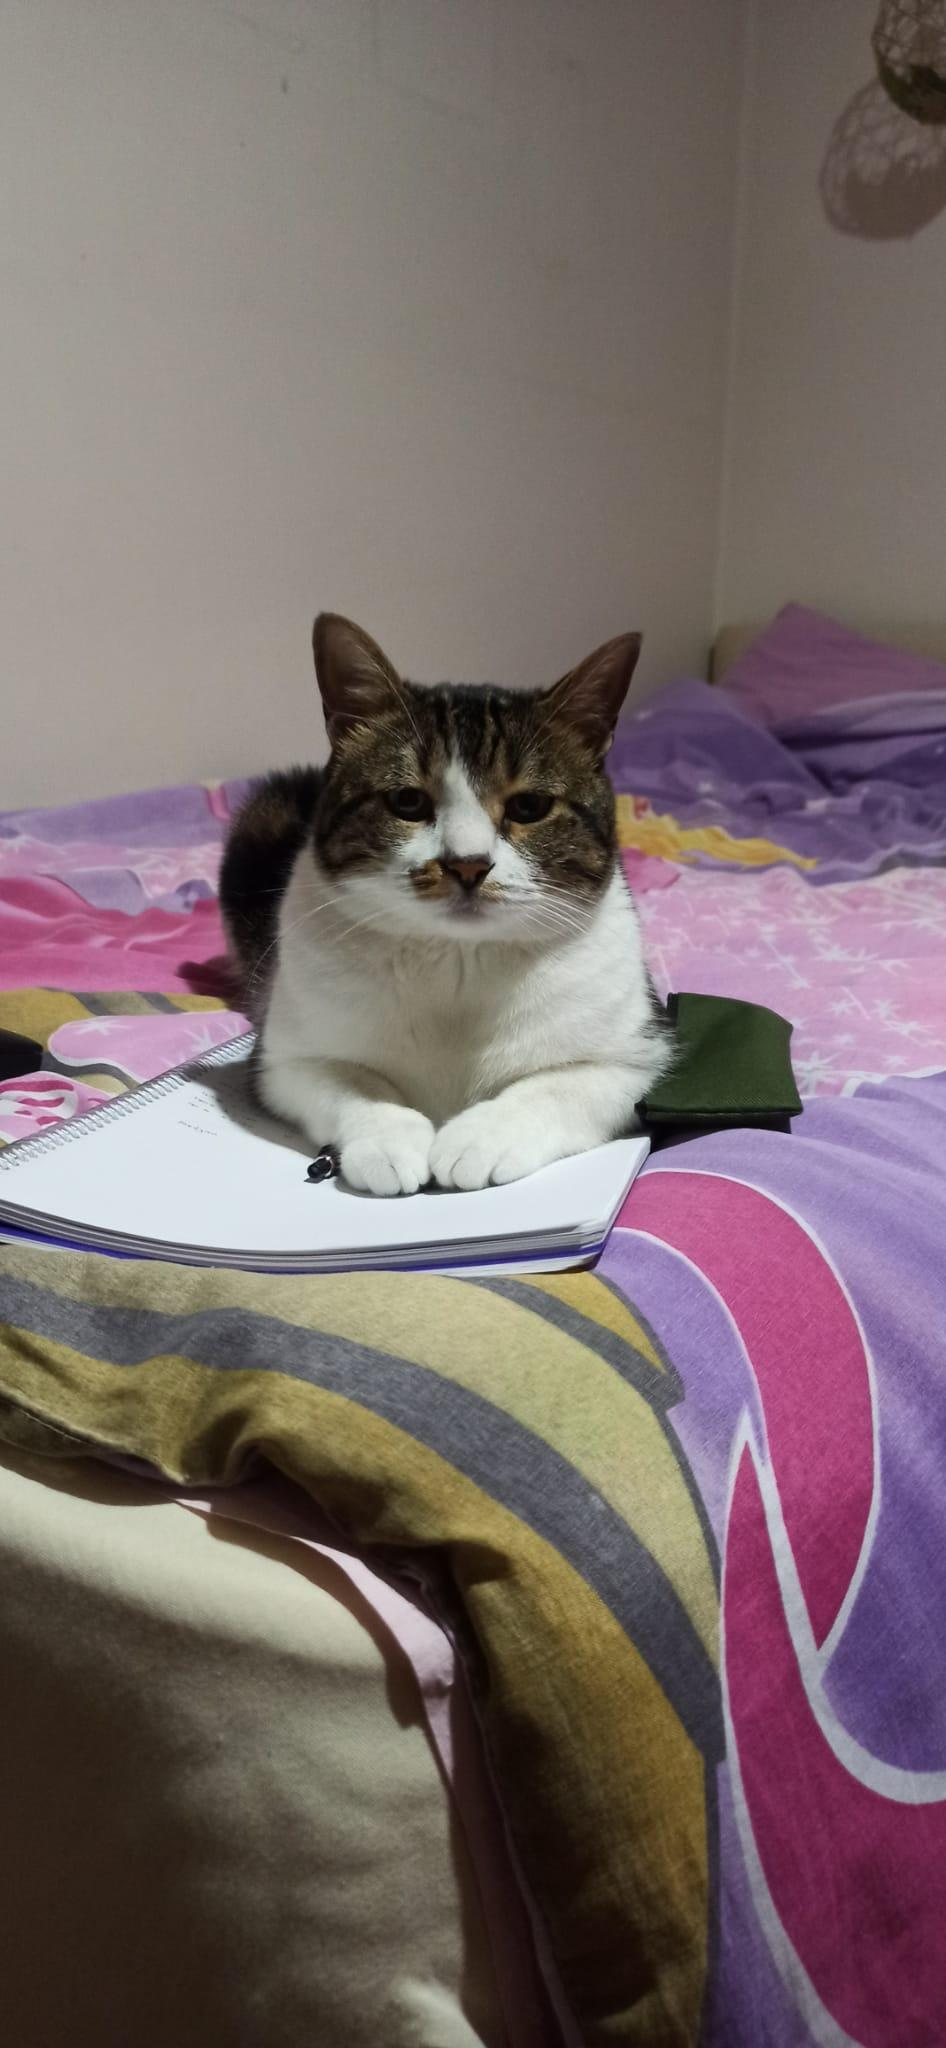kedo: (220, 610, 669, 1189)
